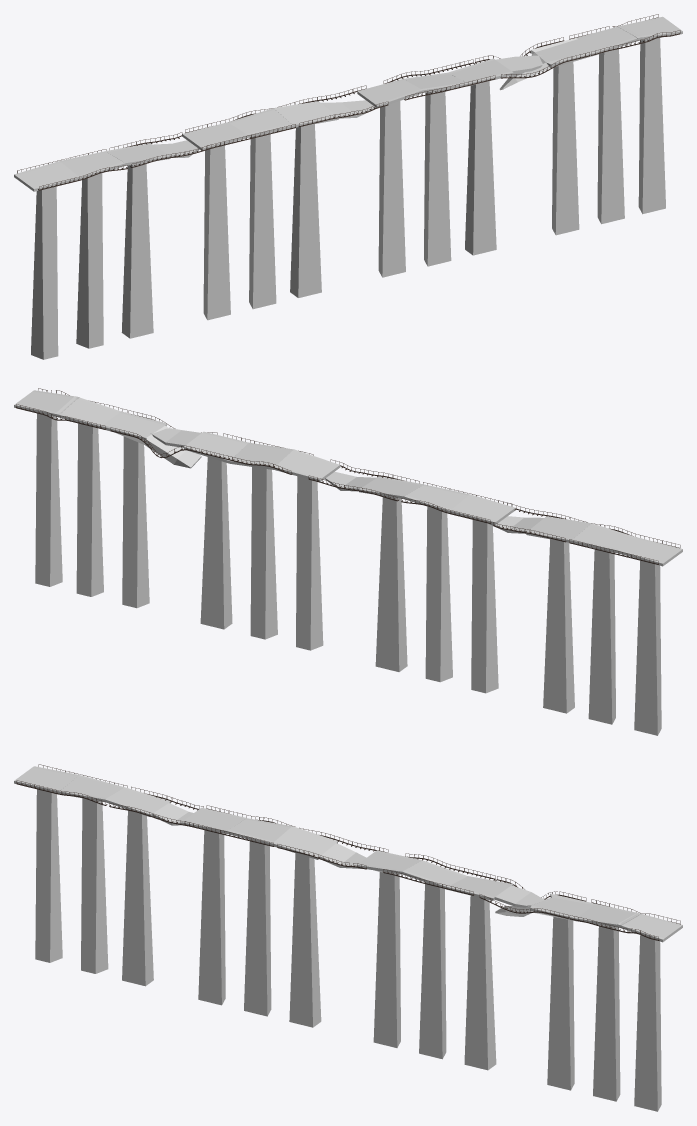
Rendered from bridge.fbx.
3 renders of one model, top to bottom at view 1: azimuth 30°, elevation 25°; view 2: azimuth 150°, elevation 25°; view 3: azimuth 330°, elevation 25°, orthographic.
Visible parts, largest first — view 1: Cube.004; view 2: Cube.004; view 3: Cube.004.
Boxes of the visible parts, x1,y1,x2,y2 form: Cube.004: (14,14,682,359); Cube.004: (14,388,682,735); Cube.004: (14,764,682,1111).
Size of the model in its own units: 23895 by 6493 by 1502.
